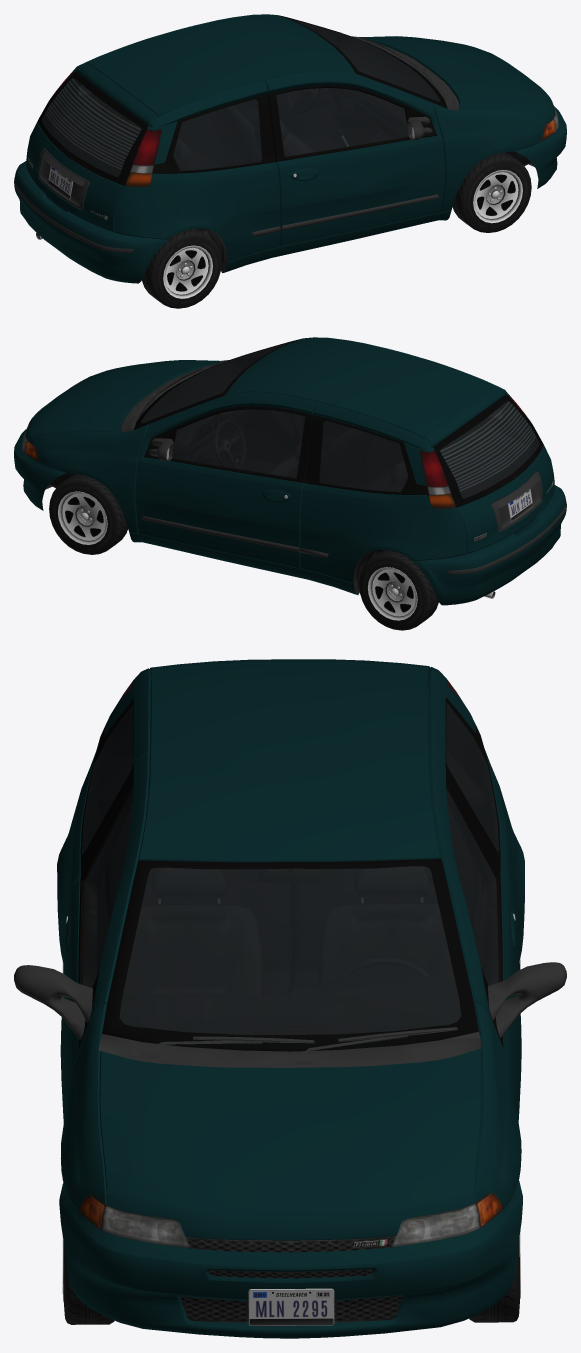
The model's file is hatch-a.glb.
3 views of the same model, one above another, from view 1: azimuth 30°, elevation 25°; view 2: azimuth 150°, elevation 25°; view 3: azimuth 270°, elevation 25° (orthographic). The views are drawn at different scales.
Parts seen in each view (by area): view 1: Milano95_Body_Milano95_Bodymat_0, Milano95_Headlights_Glass_UCB_Lights_and_Glass_Transperent_0, Milano95_interior_UCB_Interiors_2_0, Milano95_Suspension_UCB_BOTTOM_0, Milano95_WheelStock_FL_RB1c_Tire_1k_0, Milano95_Headlights_UCB_Lights_and_Glass_0, Milano95_Numberplates_Rear_Numberplates_Misk_U_0; view 2: Milano95_Body_Milano95_Bodymat_0, Milano95_Headlights_Glass_UCB_Lights_and_Glass_Transperent_0, Milano95_interior_UCB_Interiors_2_0, Milano95_Suspension_UCB_BOTTOM_0, Milano95_WheelStock_FL_RB1c_Tire_1k_0, Milano95_Headlights_UCB_Lights_and_Glass_0, Milano95_Numberplates_Rear_Numberplates_Misk_U_0; view 3: Milano95_Body_Milano95_Bodymat_0, Milano95_Headlights_Glass_UCB_Lights_and_Glass_Transperent_0, Milano95_interior_UCB_Interiors_2_0, Milano95_Suspension_UCB_BOTTOM_0, Milano95_Headlights_UCB_Lights_and_Glass_0, Milano95_Numberplates_Rear_Numberplates_Misk_U_0, Milano95_WheelStock_FL_RB1c_Tire_1k_0.
Boxes of the visible parts, box(x1,y1,x2,y2) form: Milano95_Body_Milano95_Bodymat_0: box(14, 14, 566, 283); Milano95_Headlights_Glass_UCB_Lights_and_Glass_Transperent_0: box(40, 18, 558, 186); Milano95_interior_UCB_Interiors_2_0: box(42, 20, 439, 176); Milano95_Suspension_UCB_BOTTOM_0: box(14, 15, 538, 273); Milano95_WheelStock_FL_RB1c_Tire_1k_0: box(142, 152, 531, 308); Milano95_Headlights_UCB_Lights_and_Glass_0: box(126, 103, 558, 186); Milano95_Numberplates_Rear_Numberplates_Misk_U_0: box(48, 166, 73, 199); Milano95_Body_Milano95_Bodymat_0: box(14, 337, 566, 605); Milano95_Headlights_Glass_UCB_Lights_and_Glass_Transperent_0: box(22, 341, 539, 508); Milano95_interior_UCB_Interiors_2_0: box(141, 342, 538, 497); Milano95_Suspension_UCB_BOTTOM_0: box(41, 338, 566, 598); Milano95_WheelStock_FL_RB1c_Tire_1k_0: box(49, 474, 438, 630); Milano95_Headlights_UCB_Lights_and_Glass_0: box(22, 425, 455, 508); Milano95_Numberplates_Rear_Numberplates_Misk_U_0: box(508, 489, 532, 522); Milano95_Body_Milano95_Bodymat_0: box(57, 659, 524, 1338); Milano95_Headlights_Glass_UCB_Lights_and_Glass_Transperent_0: box(78, 679, 503, 1248); Milano95_interior_UCB_Interiors_2_0: box(82, 703, 498, 1034); Milano95_Suspension_UCB_BOTTOM_0: box(14, 697, 566, 1338); Milano95_Headlights_UCB_Lights_and_Glass_0: box(79, 713, 503, 1247); Milano95_Numberplates_Rear_Numberplates_Misk_U_0: box(248, 1288, 334, 1325); Milano95_WheelStock_FL_RB1c_Tire_1k_0: box(62, 957, 520, 1324).
Size of the model in its own units: 3.85 by 1.44 by 1.93.
8 materials, 7 textured.
